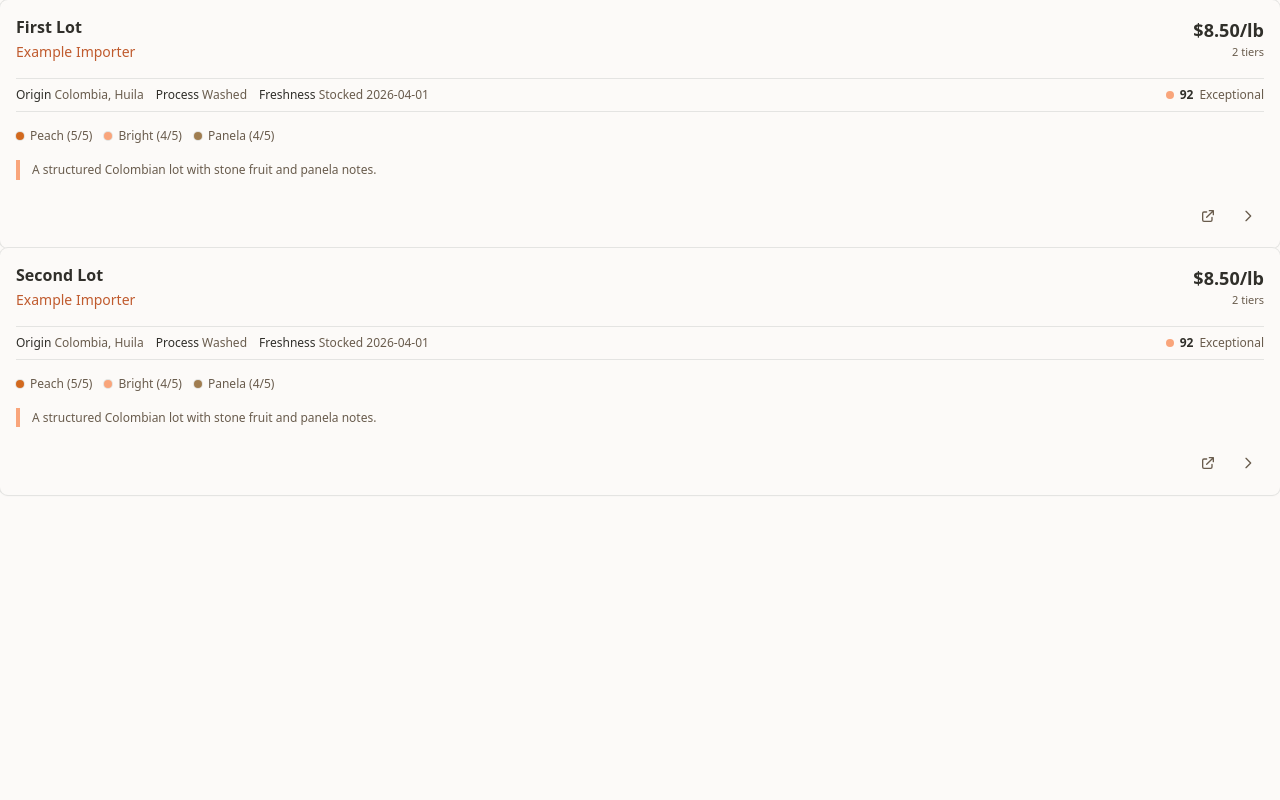
it: CoffeeCard Purveyor Score hierarchy › keeps one detail panel open at a time and closes it on an outside press
The image size is (1280, 800).
Click the button named "view details for first lot": {"x": 640, "y": 124} [0, 0, 1279, 248]
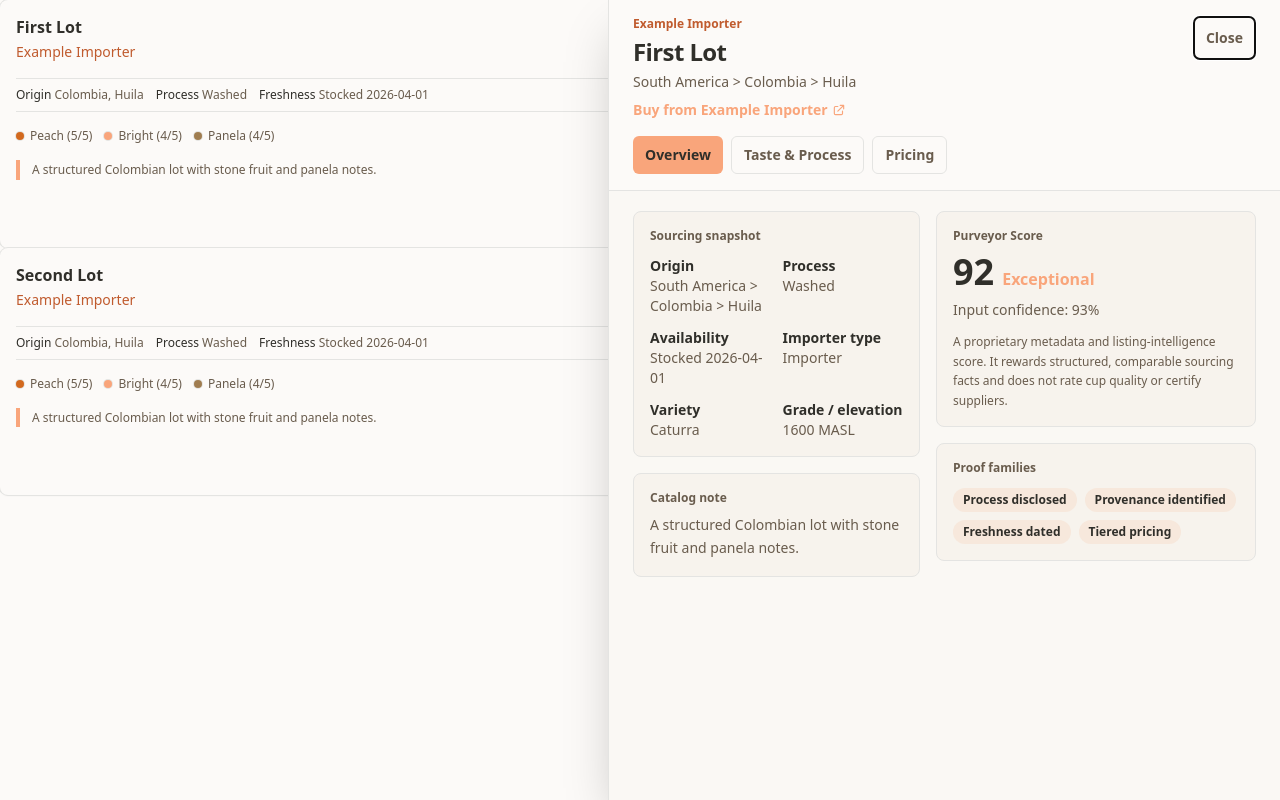
Check: the dialog "First Lot" is shown, box [608, 0, 1279, 799]
Click the button named "view details for second lot": {"x": 77, "y": 371} [0, 248, 1279, 495]
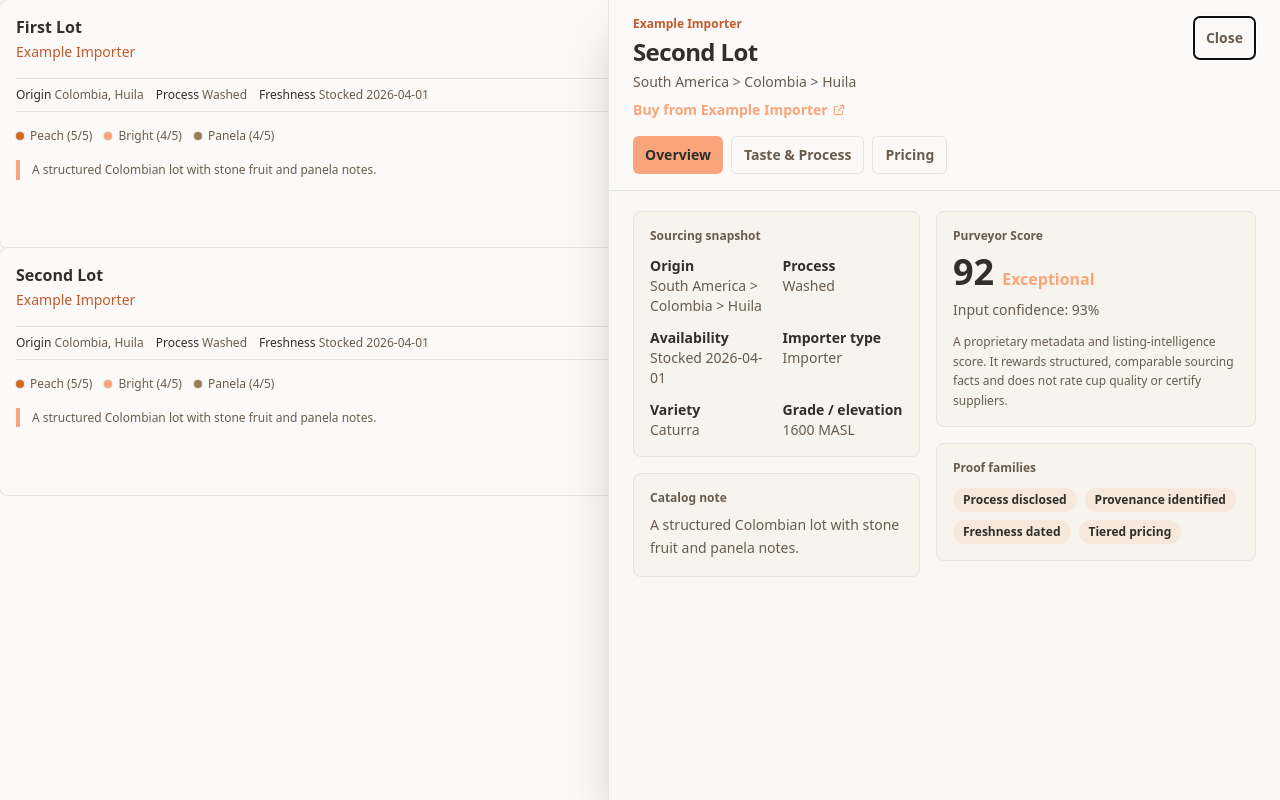
Check: the number of dialogs is 1
Check: the dialog "Second Lot" is shown
Press the mouse on the dialog "Second Lot": {"x": 944, "y": 400} [608, 0, 1279, 799]
Check: the dialog "Second Lot" is shown, box [608, 0, 1279, 799]
Press the mouse on the element that starts with "First Lot": {"x": 640, "y": 248} [0, 0, 1279, 495]
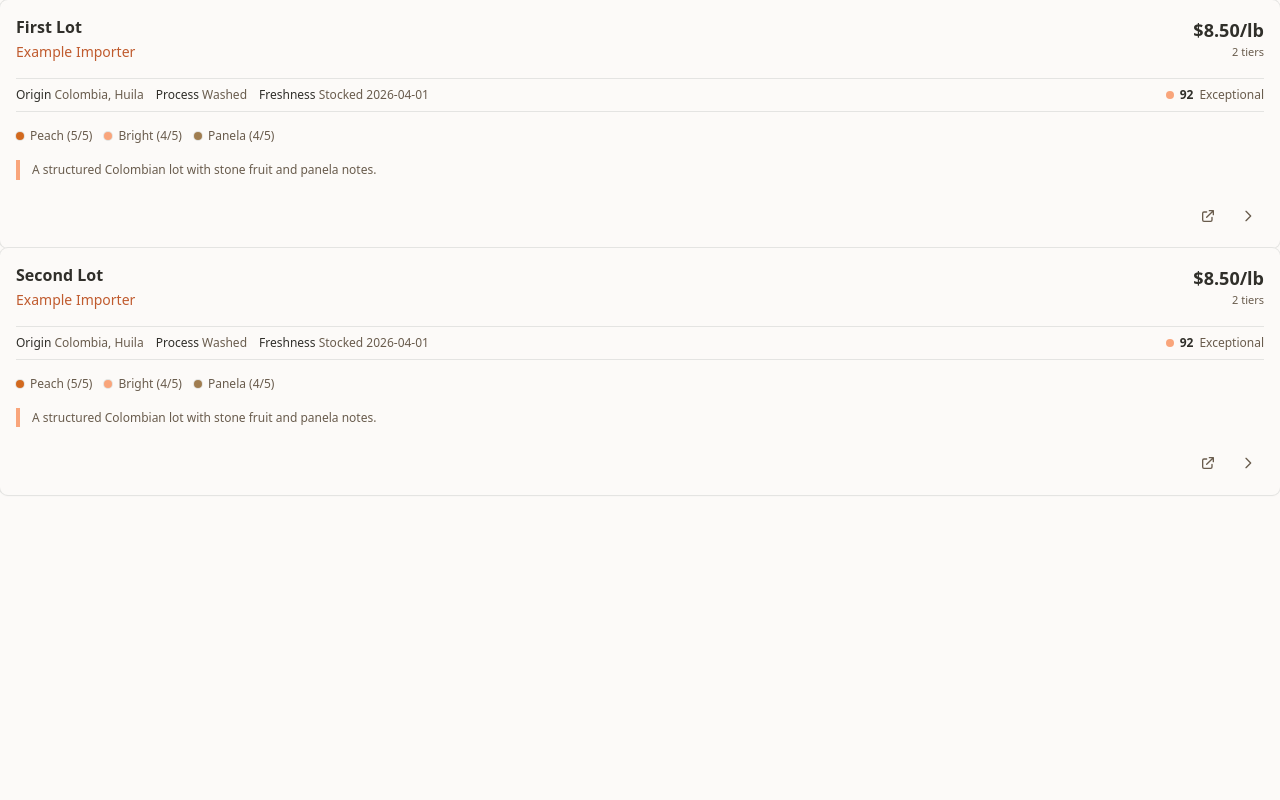
Check: the dialog is gone
